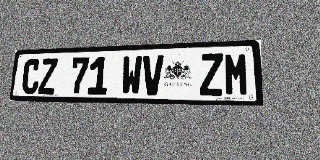1: (88, 57, 109, 95)
7: (69, 57, 89, 95)
C: (21, 59, 41, 94)
M: (224, 52, 249, 96)
V: (142, 55, 164, 95)
W: (121, 56, 142, 95)
Z: (200, 53, 224, 96), (38, 58, 58, 94)
